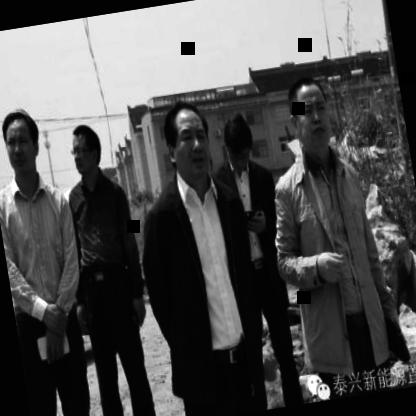head: (158, 96, 218, 191), (279, 69, 339, 160), (0, 102, 49, 186), (218, 108, 260, 178), (65, 118, 107, 180)
